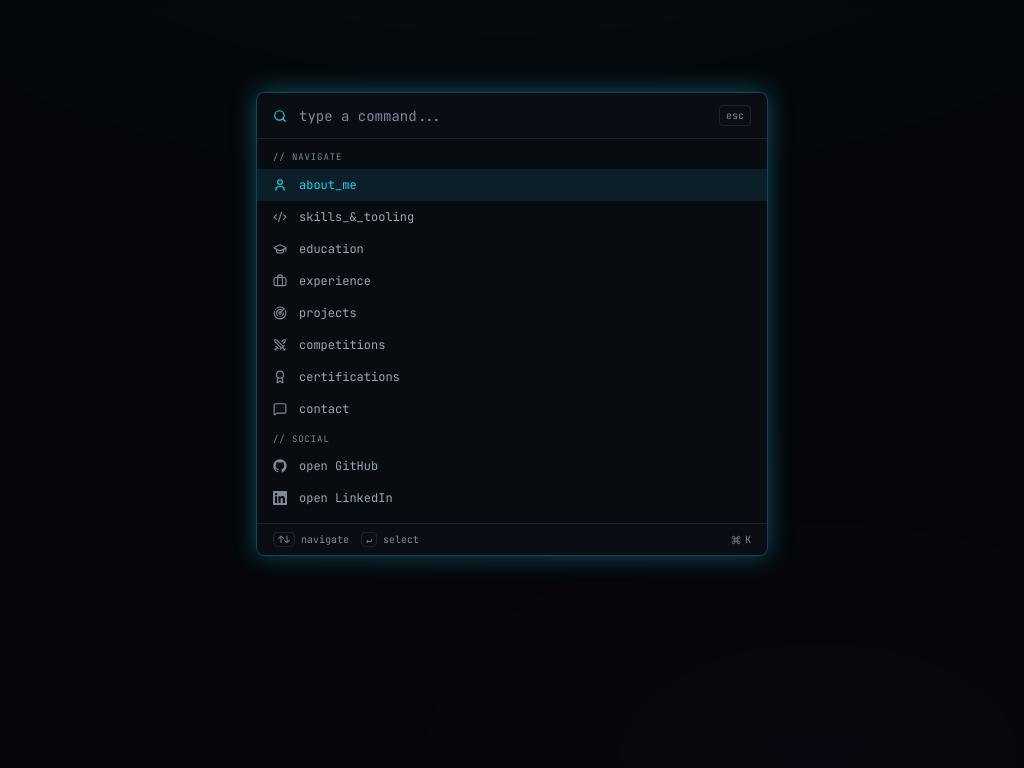
Test: <CommandPalette> dialog + combobox semantics › announces no matches via a status region and collapses the combobox
The image size is (1024, 768).
Type "zzzznope" into the dropdown. click: point(503, 116)
box: left=299, top=106, right=707, bottom=126
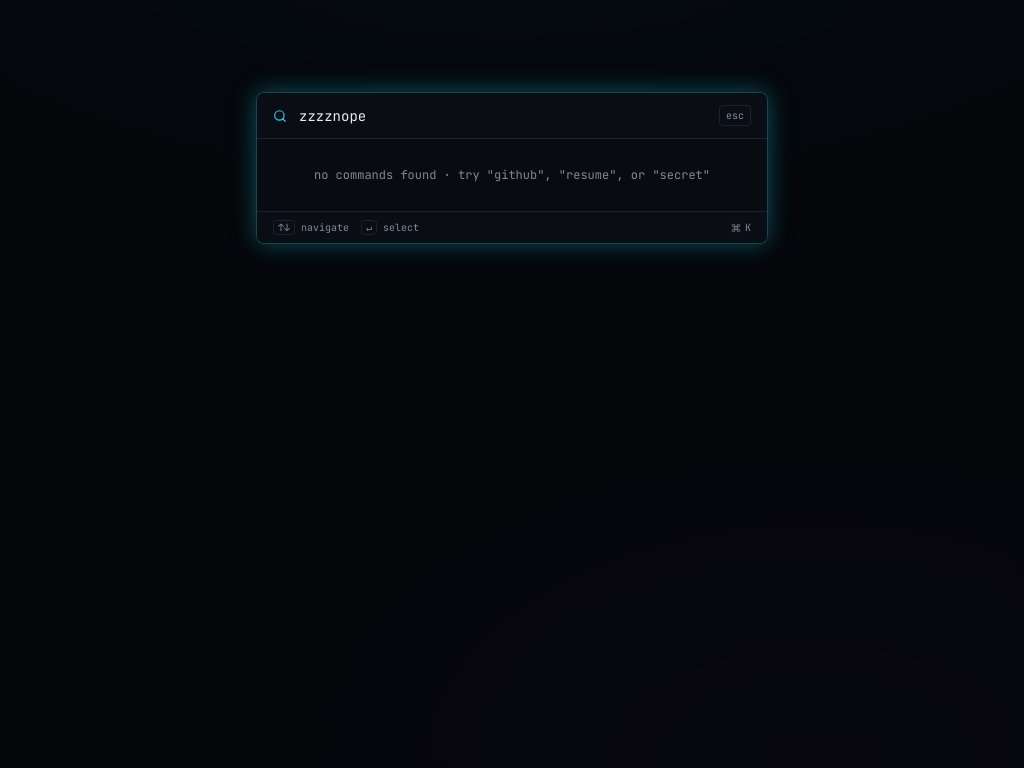
Now the message shows "no commands found", box left=314, top=167, right=710, bottom=183
Now the dropdown is collapsed, box left=299, top=106, right=707, bottom=126
